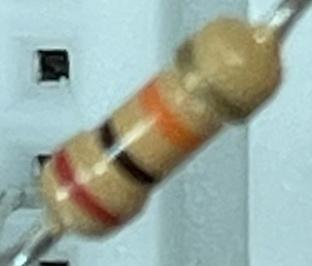Black: (88, 115, 166, 199)
Orange: (132, 77, 212, 159)
Red: (44, 150, 135, 240)
Side-Gold: (166, 36, 256, 130)
